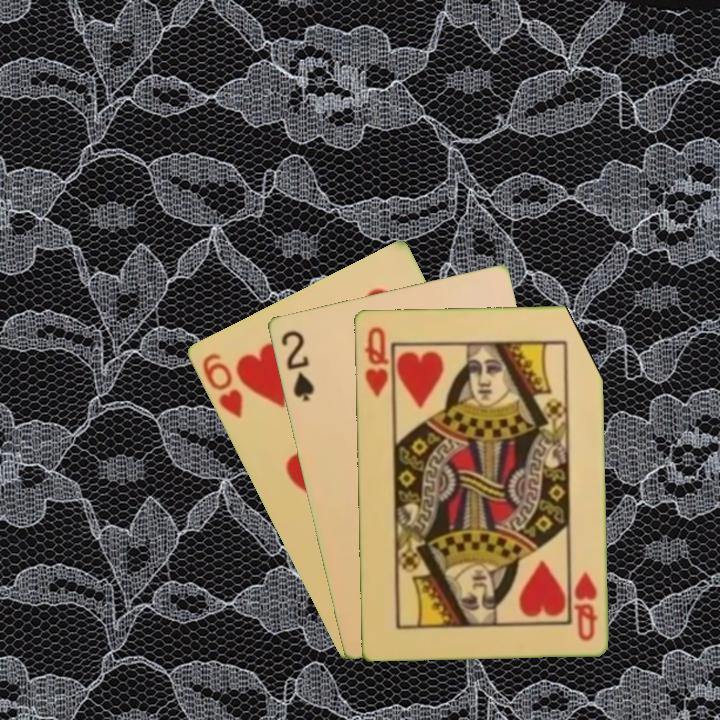2s: (277, 326, 317, 404)
6h: (198, 349, 245, 421)
Qh: (361, 323, 391, 400), (570, 568, 600, 644)
